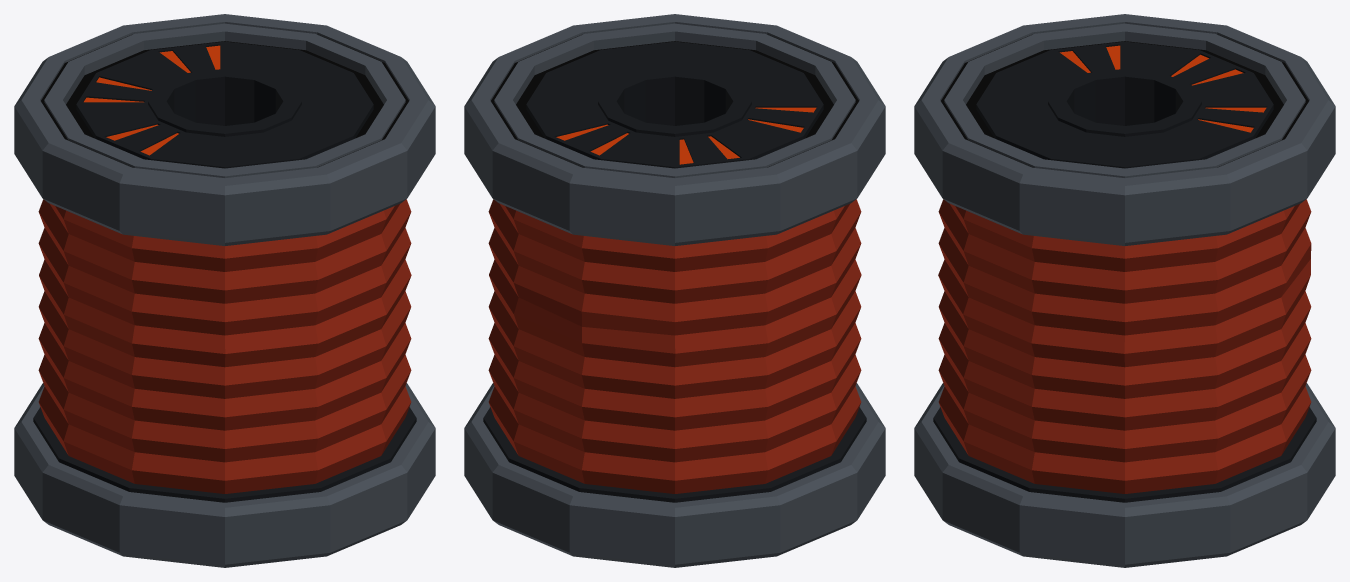
File: SM_Copper_Coil.obj
3 views of the same model, side by side, from view 1: azimuth 30°, elevation 25°; view 2: azimuth 150°, elevation 25°; view 3: azimuth 270°, elevation 25° (orthographic).
Visible parts, largest first — view 1: SM_Copper_Coil; view 2: SM_Copper_Coil; view 3: SM_Copper_Coil.
Boxes of the visible parts, x1,y1,x2,y2 form: SM_Copper_Coil: (14,14,435,567); SM_Copper_Coil: (464,14,885,567); SM_Copper_Coil: (914,14,1335,567).
Size of the model in its own units: 0.2984 by 0.2984 by 0.2984.
